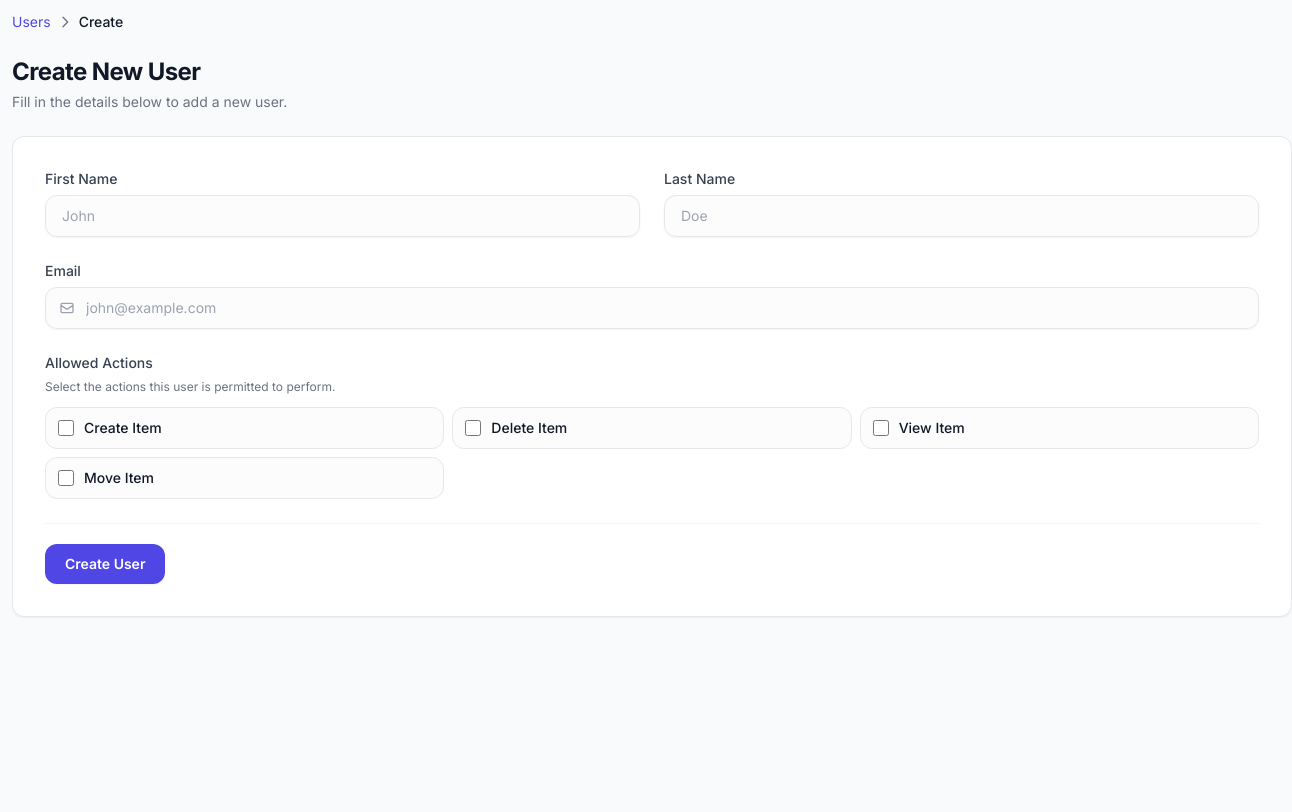
it: CreateUserPage › shows validation errors on empty submit
The image size is (1292, 812).
Click the button "Create User" at point(105, 564), box [45, 544, 166, 584]
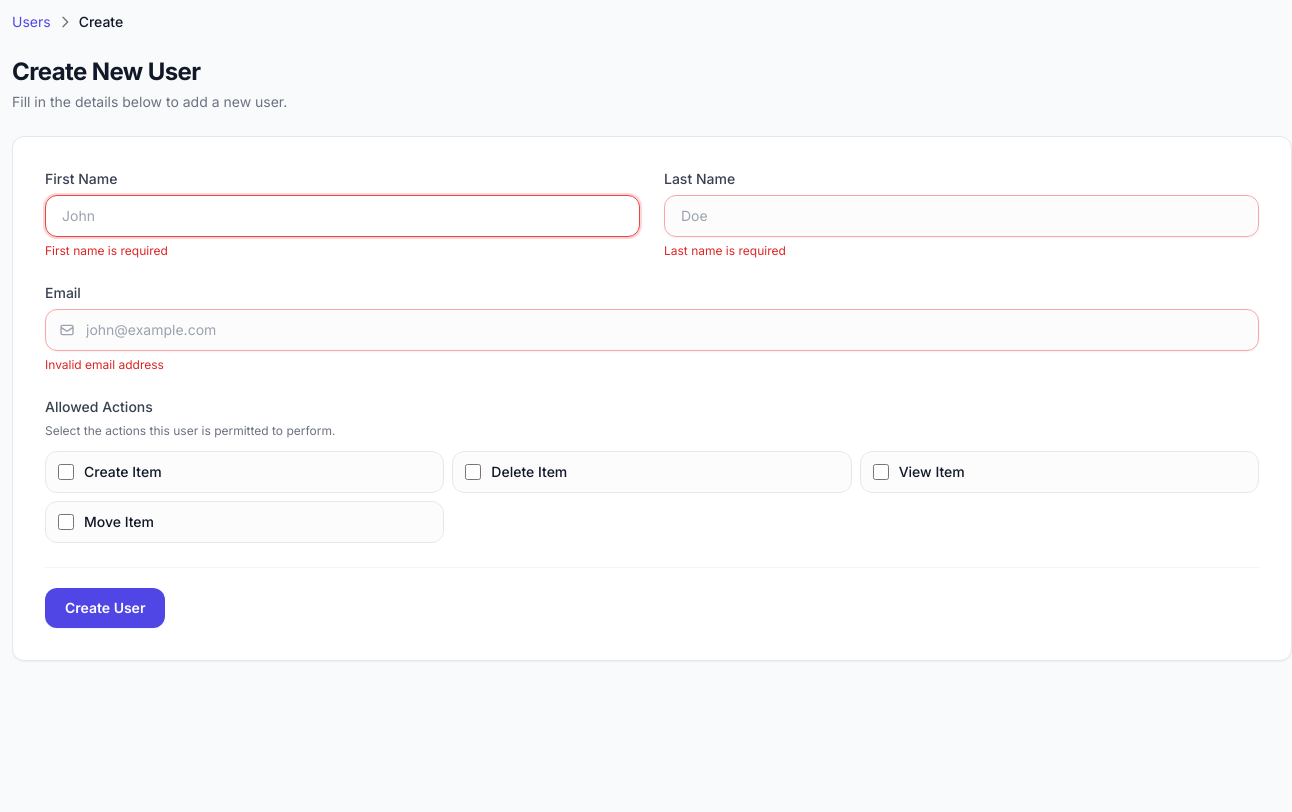
Result: the text "First name is required" is shown at [45, 243, 168, 258]
